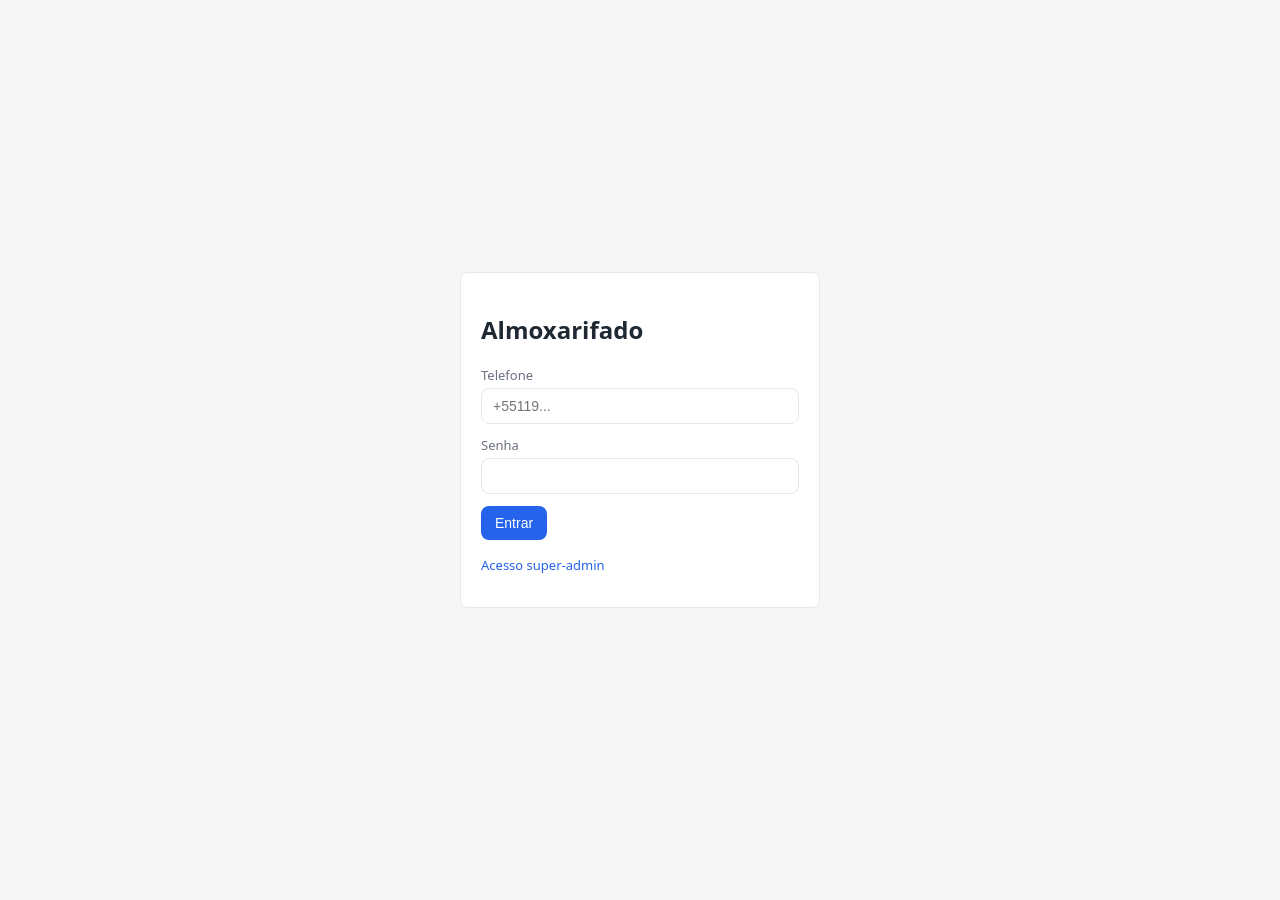
Test: Fluxo crítico login → 2FA → cadastrar ferramenta › autentica e cria uma ferramenta que aparece na lista
# Passo 1: telefone + senha.
Type "+5511999990000" into the field with placeholder "+55119..." at coordinates (640, 406), box [481, 388, 799, 424]
Type "Senha@123" into the password field labelled "Senha" at coordinates (640, 476), box [481, 458, 799, 494]
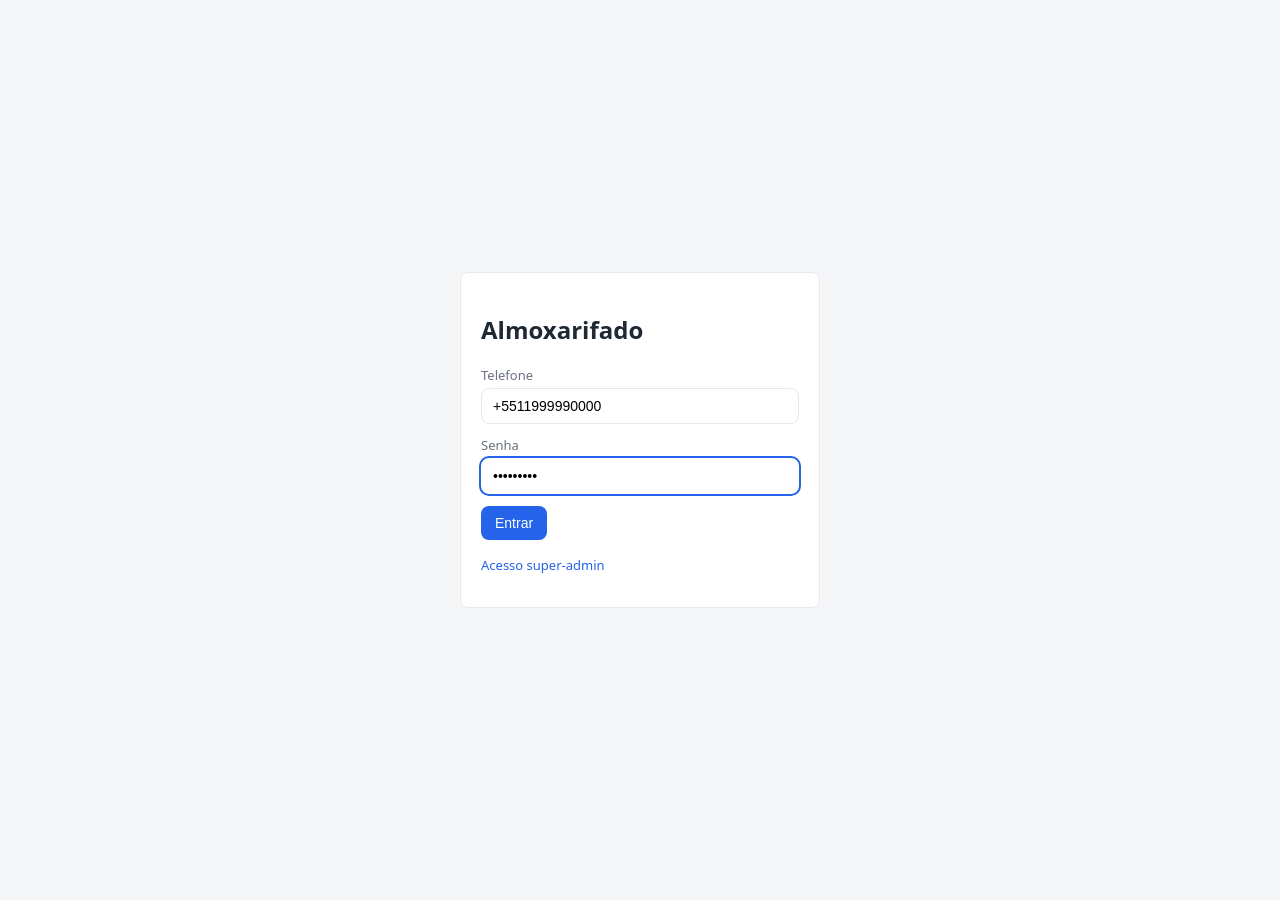
Click the button "Entrar" at coordinates (514, 523), box [481, 506, 547, 540]
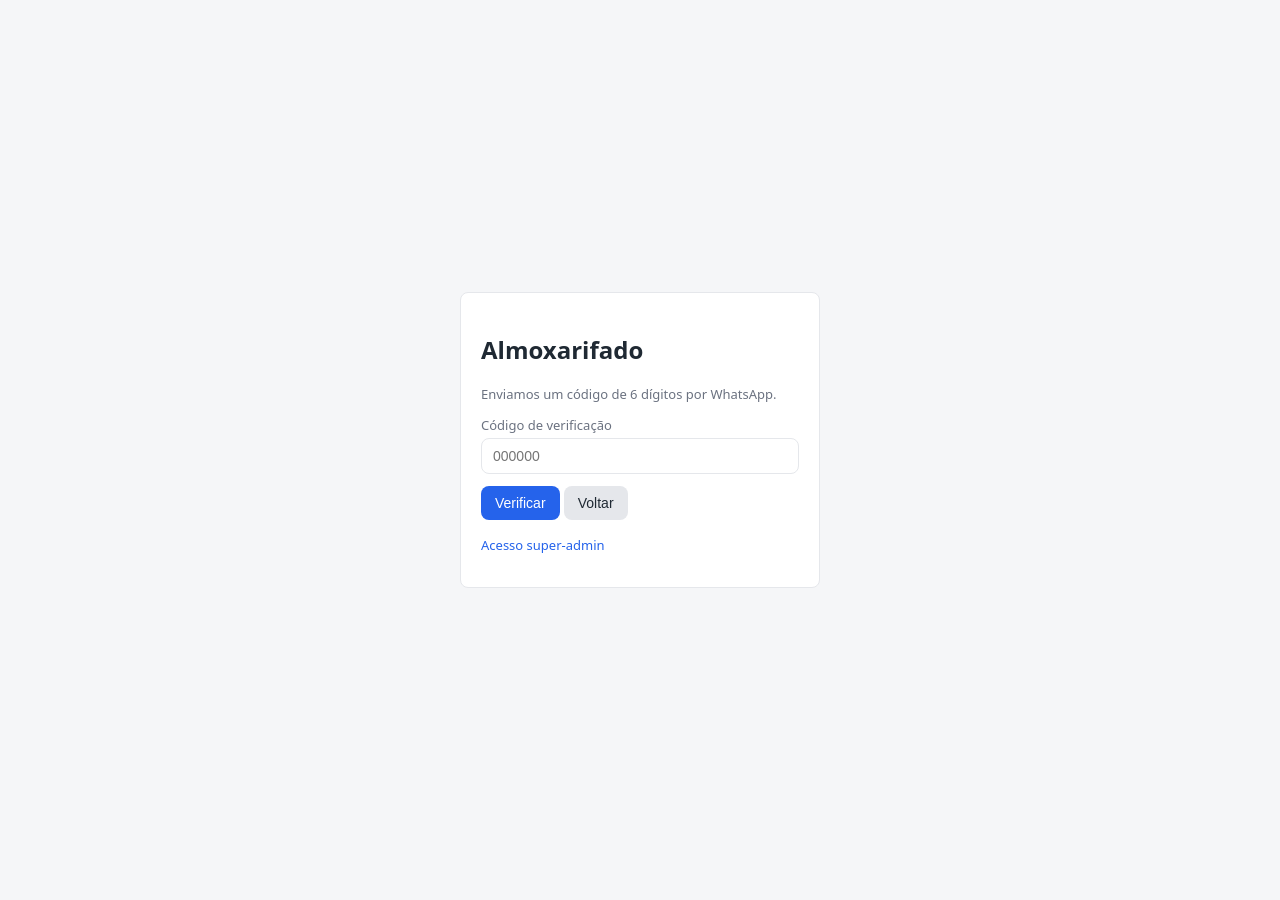
# Passo 2: código OTP.
Type "123456" into the field with placeholder "000000" at coordinates (640, 456), box [481, 438, 799, 474]
Click the button "Verificar" at coordinates (520, 503), box [481, 486, 560, 520]
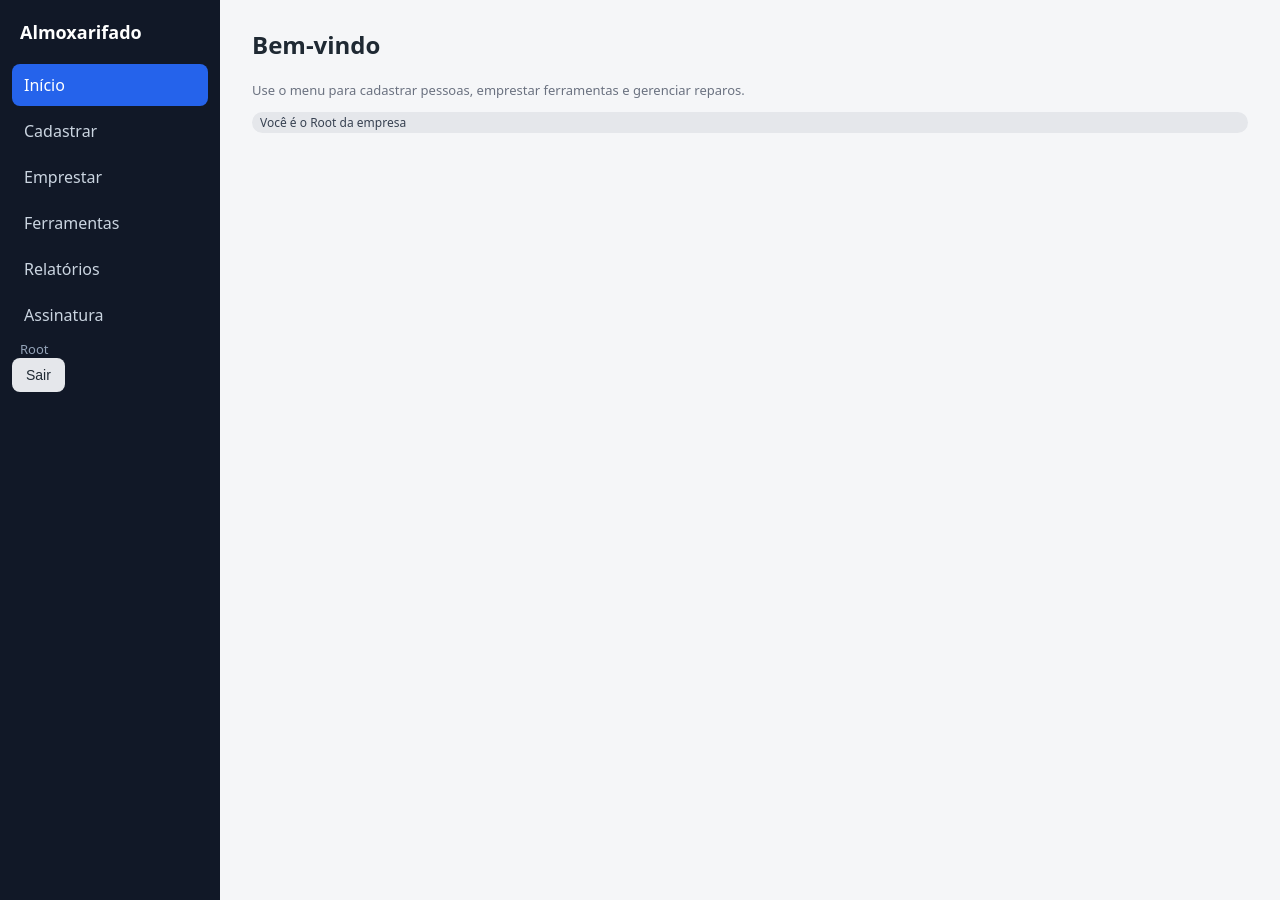
Result: the heading "Bem-vindo" is shown at [252, 28, 380, 61]
# Navega para Ferramentas e cadastra uma.
Click the link "Ferramentas" at coordinates (72, 223), box [24, 212, 120, 234]
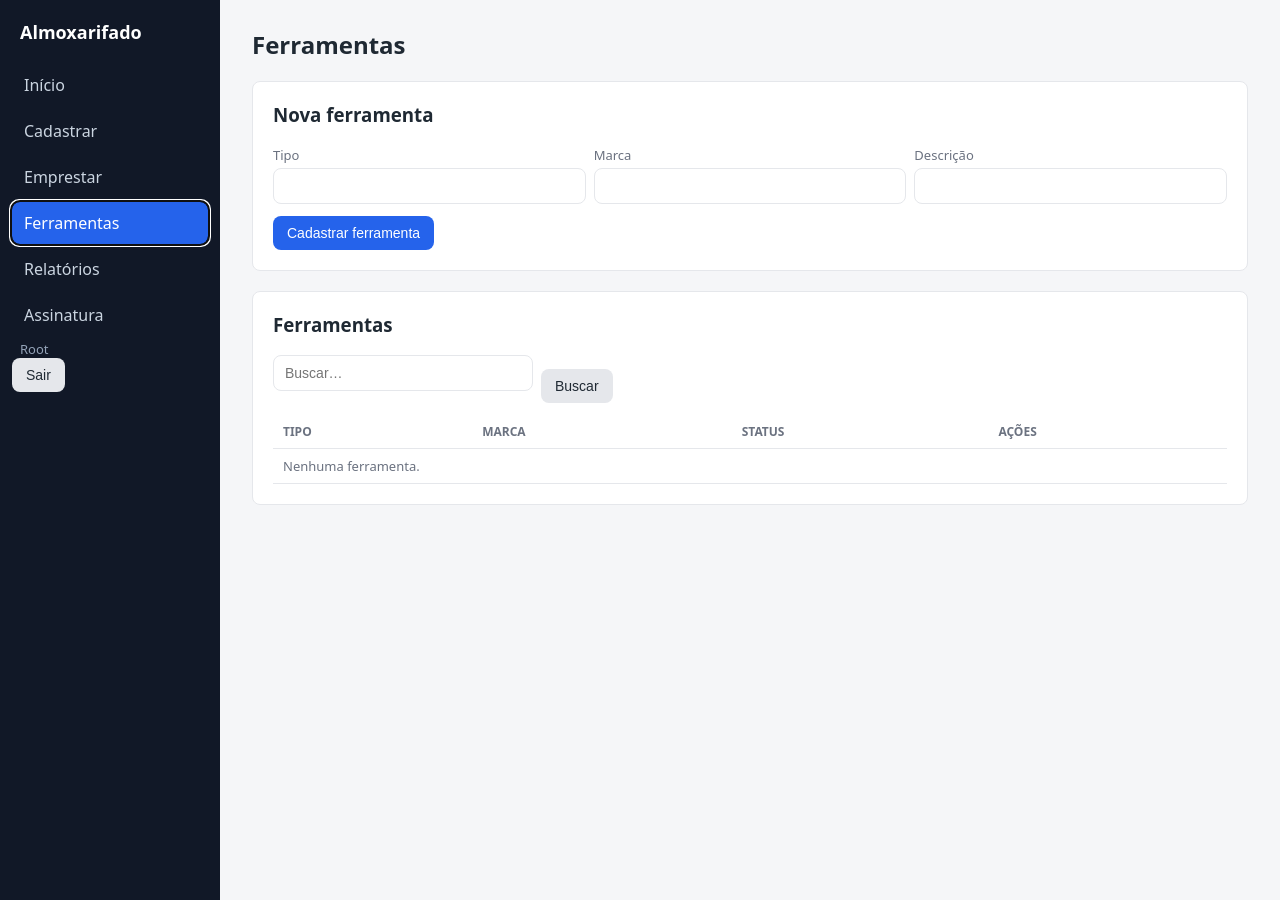
Result: the button "Cadastrar ferramenta" is shown at [273, 216, 434, 250]
Type "furadeira" into the field labelled "Tipo" at coordinates (429, 186), box [273, 168, 586, 204]
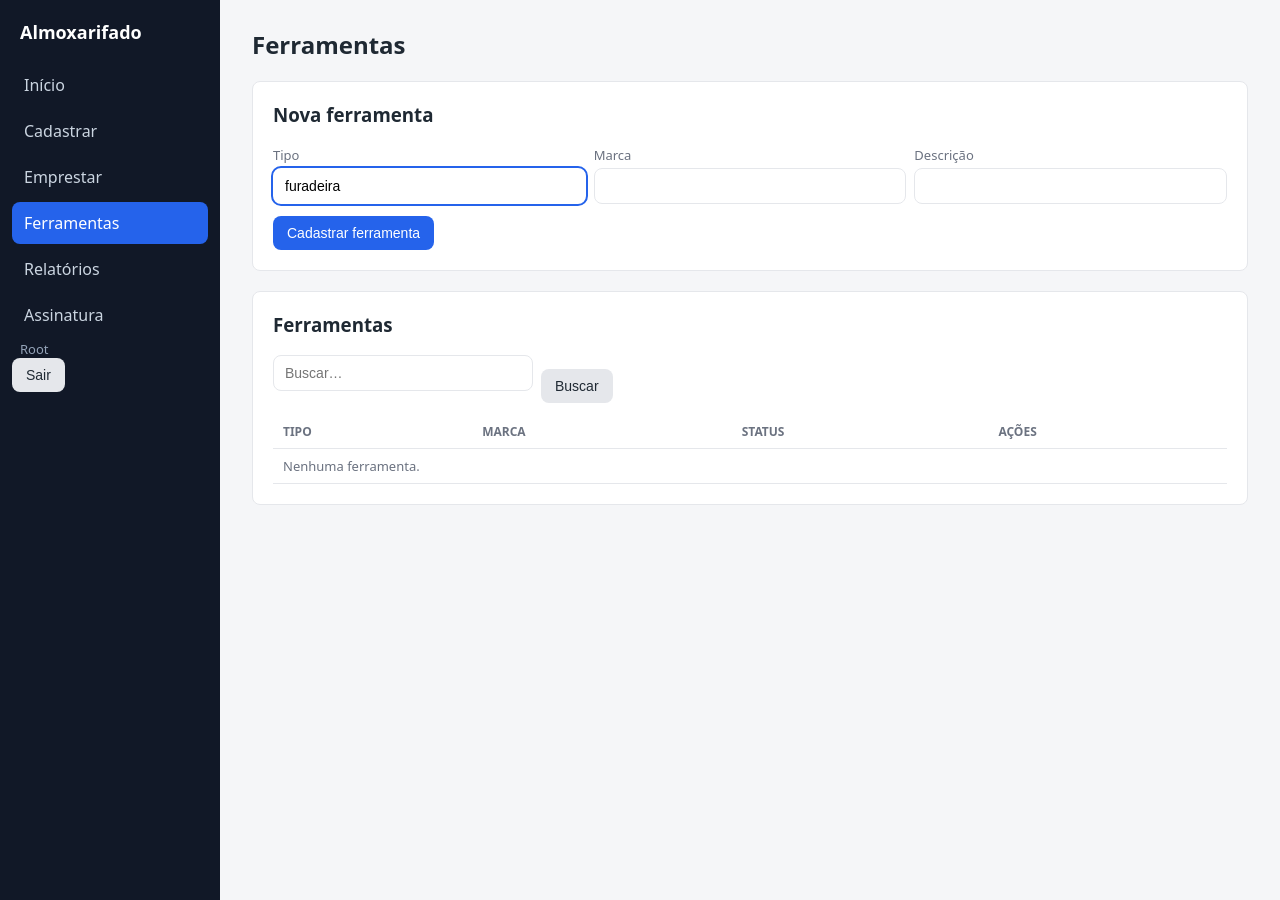
Click the button "Cadastrar ferramenta" at coordinates (354, 233), box [273, 216, 434, 250]
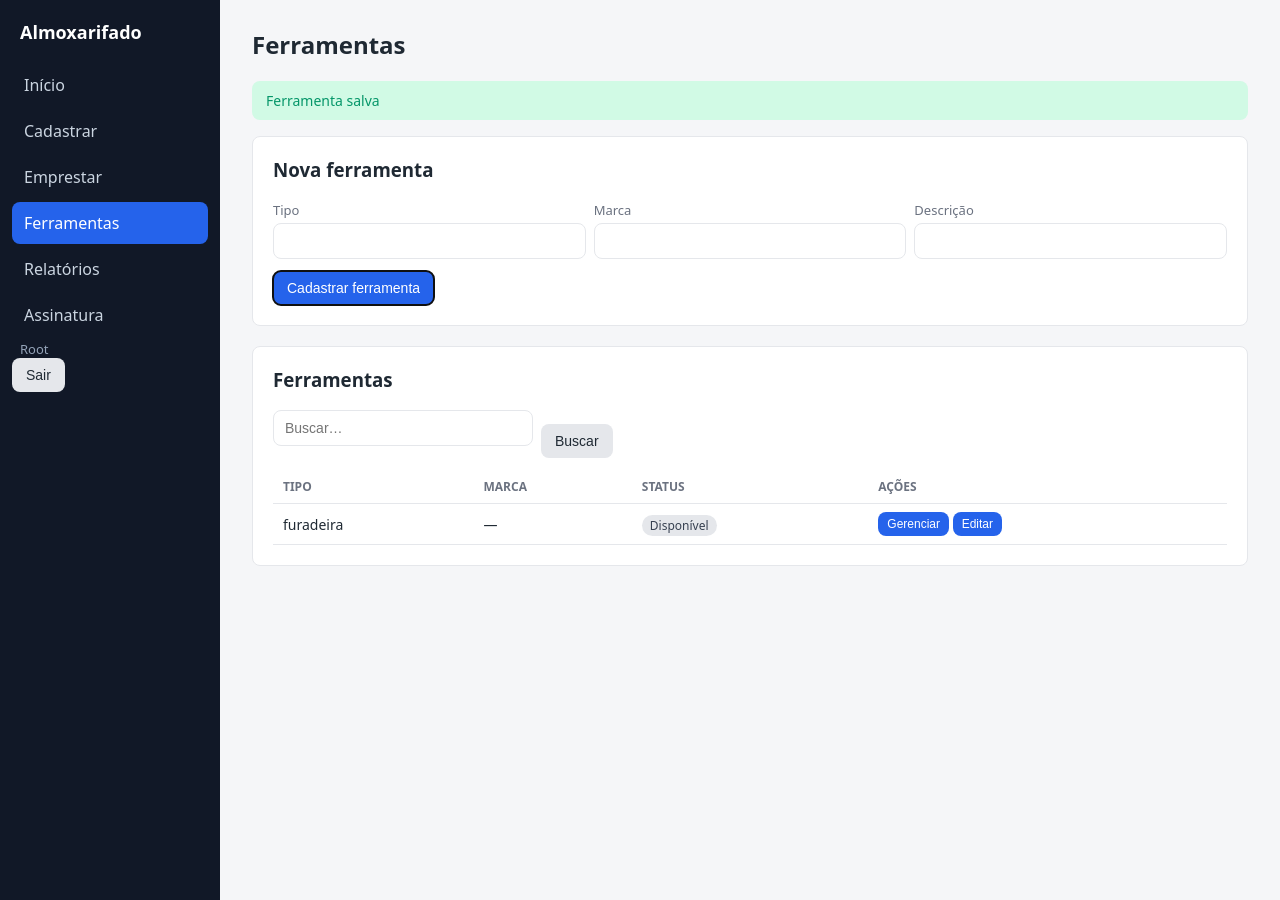
Result: the text "furadeira" is shown at [273, 504, 474, 545]
